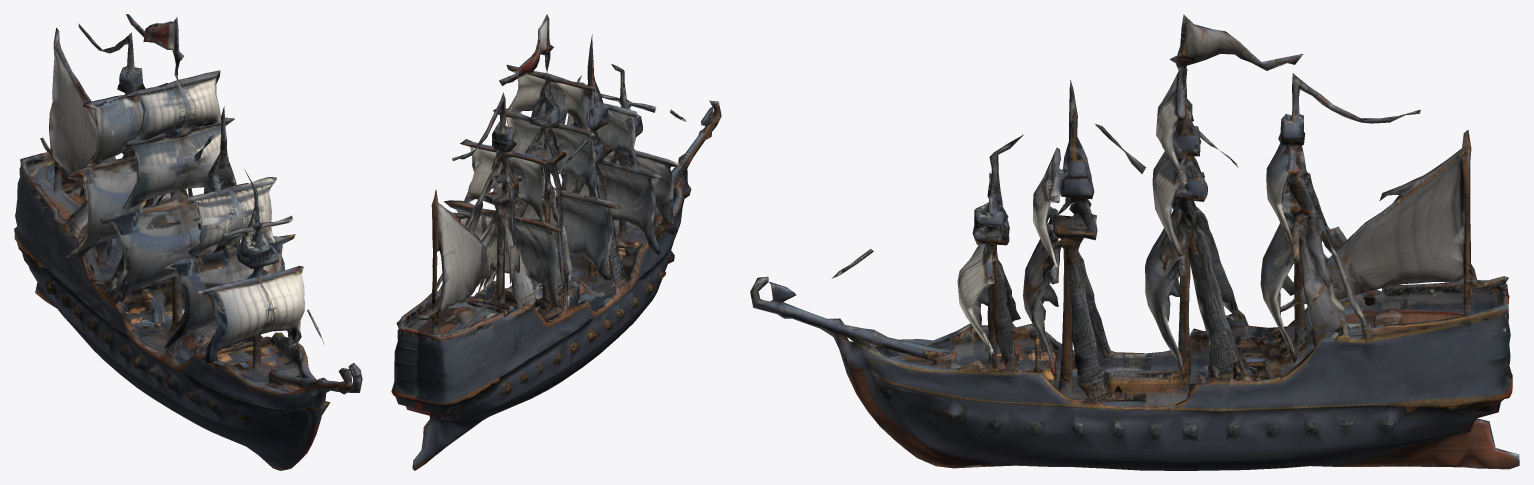
The model's file is Fregate.fbx.
3 views of the same model, side by side, from view 1: azimuth 30°, elevation 25°; view 2: azimuth 150°, elevation 25°; view 3: azimuth 270°, elevation 25° (orthographic). The views are drawn at different scales.
Parts seen in each view (by area): view 1: Mesh_0; view 2: Mesh_0; view 3: Mesh_0.
Boxes of the visible parts, <box> form: Mesh_0: <box>14,14,362,470</box>; Mesh_0: <box>391,14,721,470</box>; Mesh_0: <box>750,14,1519,470</box>.
Size of the model in its own units: 53.28 by 130 by 200.
Materials: 1 (1 with a texture image).
